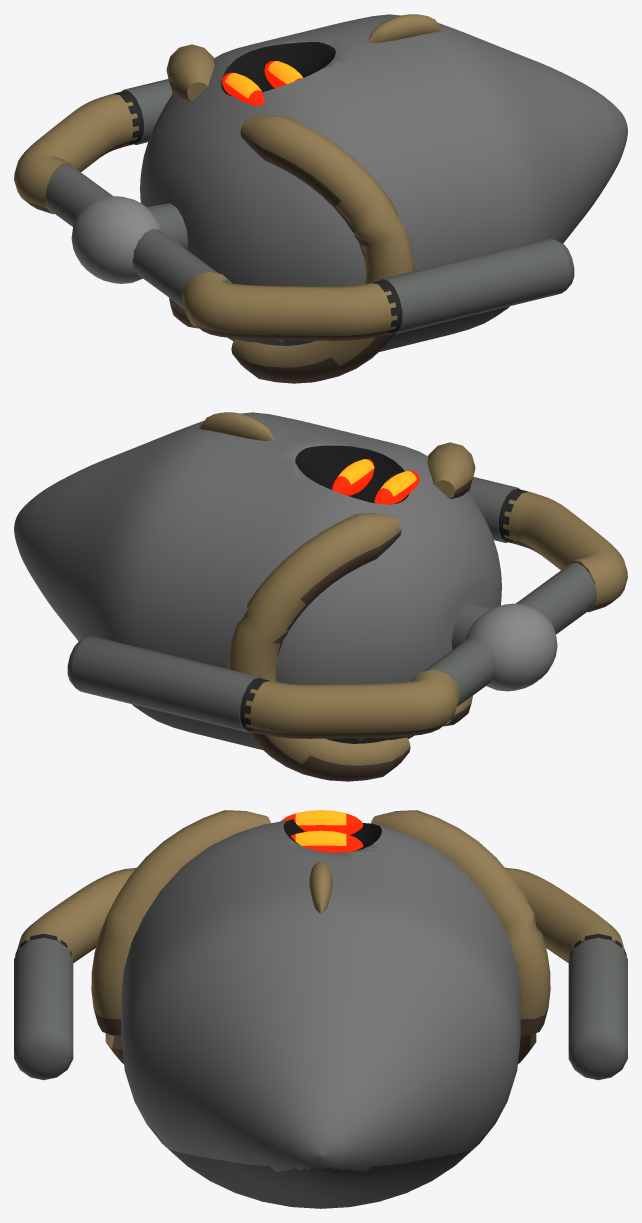
The model's file is boom_ship_right.glb.
3 views of the same model, one above another, from view 1: azimuth 30°, elevation 25°; view 2: azimuth 150°, elevation 25°; view 3: azimuth 270°, elevation 25° (orthographic). The views are drawn at different scales.
Parts seen in each view (by area): view 1: pod, rim-1, elbow-1, rail-1, elbow+1, post, hub, rim+1, rail+1, blade, shaft, lamp0 (+3 smaller); view 2: pod, rim+1, elbow+1, rail+1, elbow-1, post, hub, rim-1, rail-1, blade, lamp1, lamp0 (+3 smaller); view 3: pod, rim-1, rim+1, rail+1, rail-1, elbow+1, elbow-1, lamp0, lamp1, blade.
Part boxes in pixels (box(x1,y1,x2,y2)): pod: box(140, 14, 627, 351); rim-1: box(231, 115, 414, 383); elbow-1: box(182, 271, 397, 340); rail-1: box(380, 238, 574, 334); elbow+1: box(14, 93, 138, 214); post: box(45, 157, 232, 308); hub: box(71, 196, 160, 283); rim+1: box(166, 44, 214, 328); rail+1: box(121, 79, 172, 144); blade: box(367, 14, 442, 42); shaft: box(146, 203, 188, 249); lamp0: box(222, 72, 264, 105); pod: box(14, 412, 501, 749); rim+1: box(227, 513, 410, 781); elbow+1: box(244, 669, 459, 738); rail+1: box(67, 636, 261, 732); elbow-1: box(503, 491, 627, 612); post: box(409, 555, 596, 706); hub: box(465, 603, 557, 691); rim-1: box(427, 442, 475, 726); rail-1: box(469, 477, 520, 542); blade: box(199, 412, 274, 440); lamp1: box(332, 459, 374, 495); lamp0: box(374, 470, 419, 504); pod: box(121, 819, 520, 1208); rim-1: box(91, 810, 270, 1063); rim+1: box(371, 810, 550, 1063); rail+1: box(568, 937, 627, 1080); rail-1: box(14, 937, 73, 1080); elbow+1: box(505, 867, 624, 962); elbow-1: box(17, 867, 136, 962); lamp0: box(280, 810, 363, 834); lamp1: box(290, 830, 363, 852); blade: box(309, 861, 332, 913).
Bounding box in the file's own units: 24.02 × 12.98 × 22.14.
